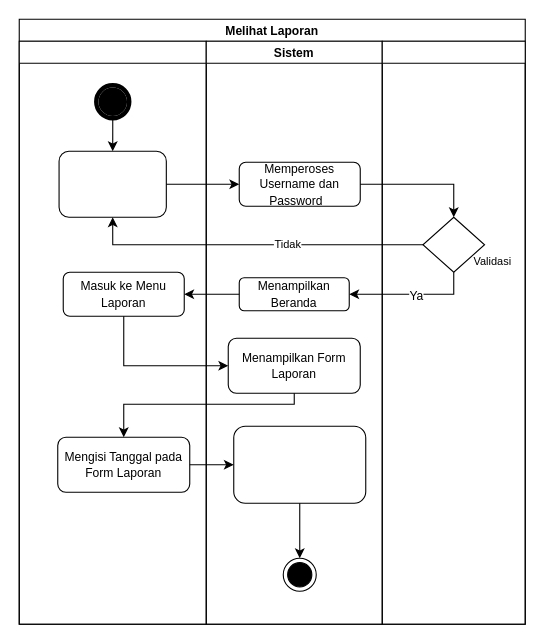
The diagram is 545 pixels wide and 644 high, and some of its shapes have lost their labels. Each missing label, with the box of its shape:
Admin: (18, 40, 206, 624)
Database: (381, 40, 525, 624)
Masukan Username dan Password: (58, 150, 166, 217)
Menampilakan Tampilan Laporan Berdasarkan input Tanggal: (233, 425, 366, 503)
